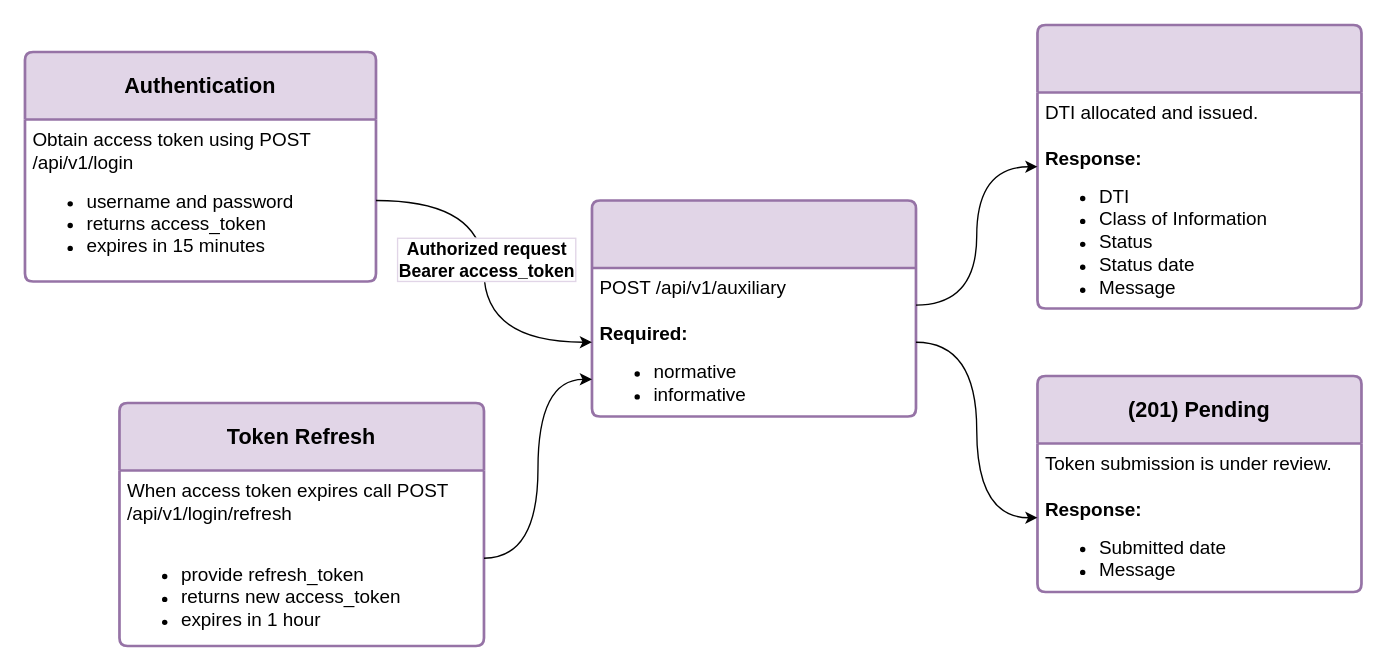
Some shapes in this 1385 by 671 pixel diagram are drawn without their labels. The box of each missing label's shape, as (x1, y1, x2, y2) in pixels:
(201) Issued: (1035, 23, 1362, 309)
Create Auxiliary Digital Token: (590, 198, 917, 417)
